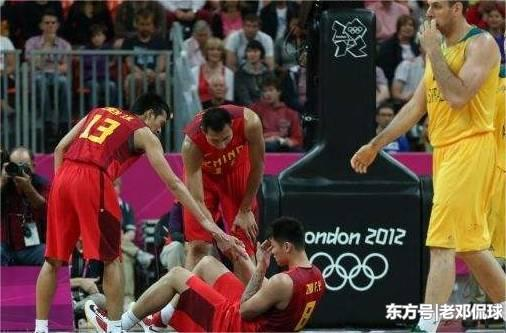bending: (36, 92, 200, 330), (177, 99, 268, 271)
down: (80, 213, 327, 333)
up: (359, 4, 506, 333)
